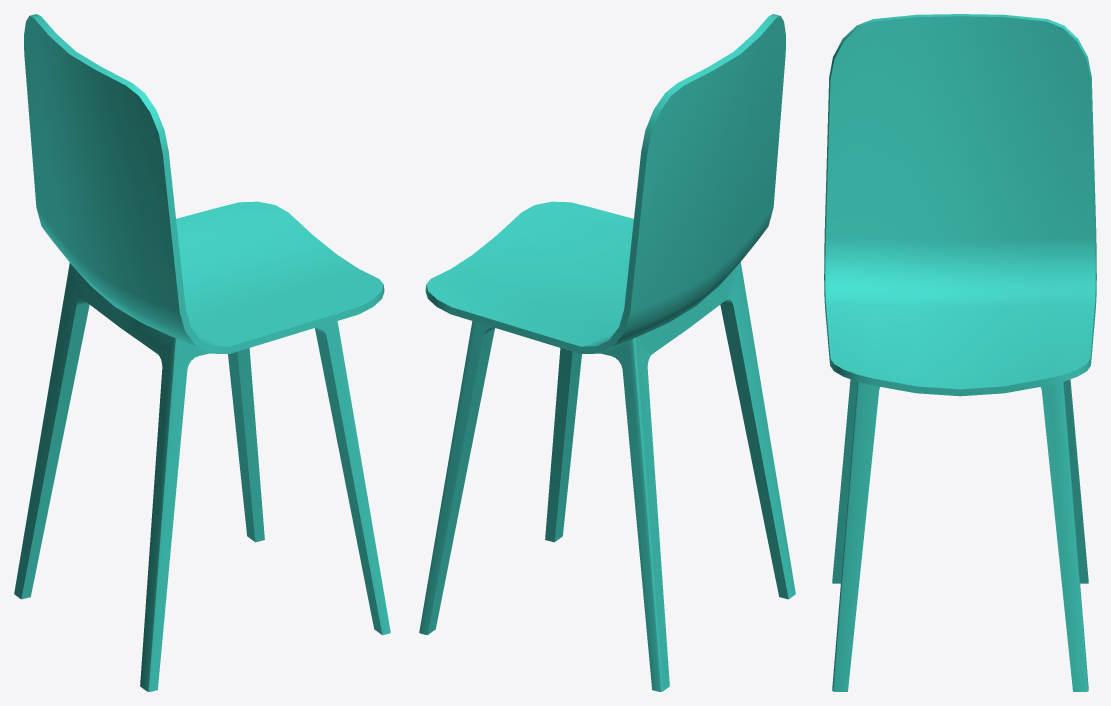
Rendered from chair_5.fbx.
3 renders of one model, left to right at view 1: azimuth 30°, elevation 25°; view 2: azimuth 150°, elevation 25°; view 3: azimuth 270°, elevation 25°, orthographic. The views are drawn at different scales.
Visible parts, largest first — view 1: Chair_5; view 2: Chair_5; view 3: Chair_5.
Boxes of the visible parts, x1,y1,x2,y2 form: Chair_5: (14, 14, 390, 691); Chair_5: (419, 14, 795, 691); Chair_5: (824, 14, 1096, 691).
Size of the model in its own units: 39.02 by 82.52 by 36.32.
